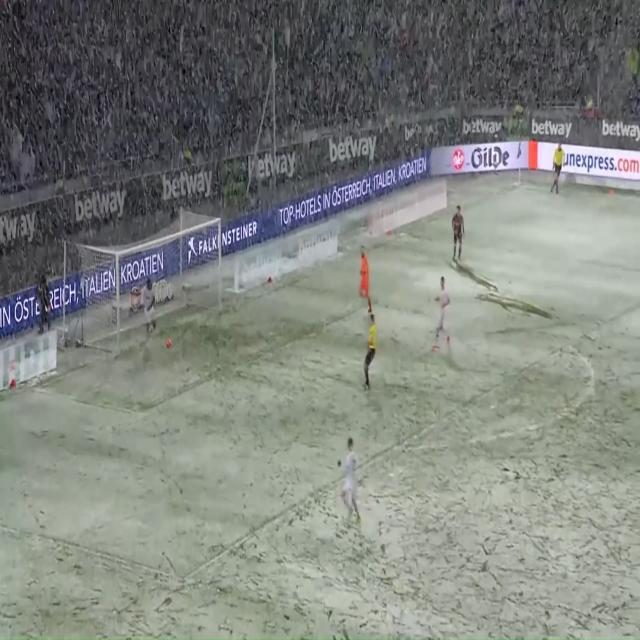ball: (165, 337, 174, 350)
goalkeeper: (351, 247, 375, 314)
player: (336, 434, 364, 523), (429, 277, 453, 355), (139, 275, 158, 347), (449, 203, 466, 267)
referee: (360, 314, 380, 392), (549, 136, 564, 198)
